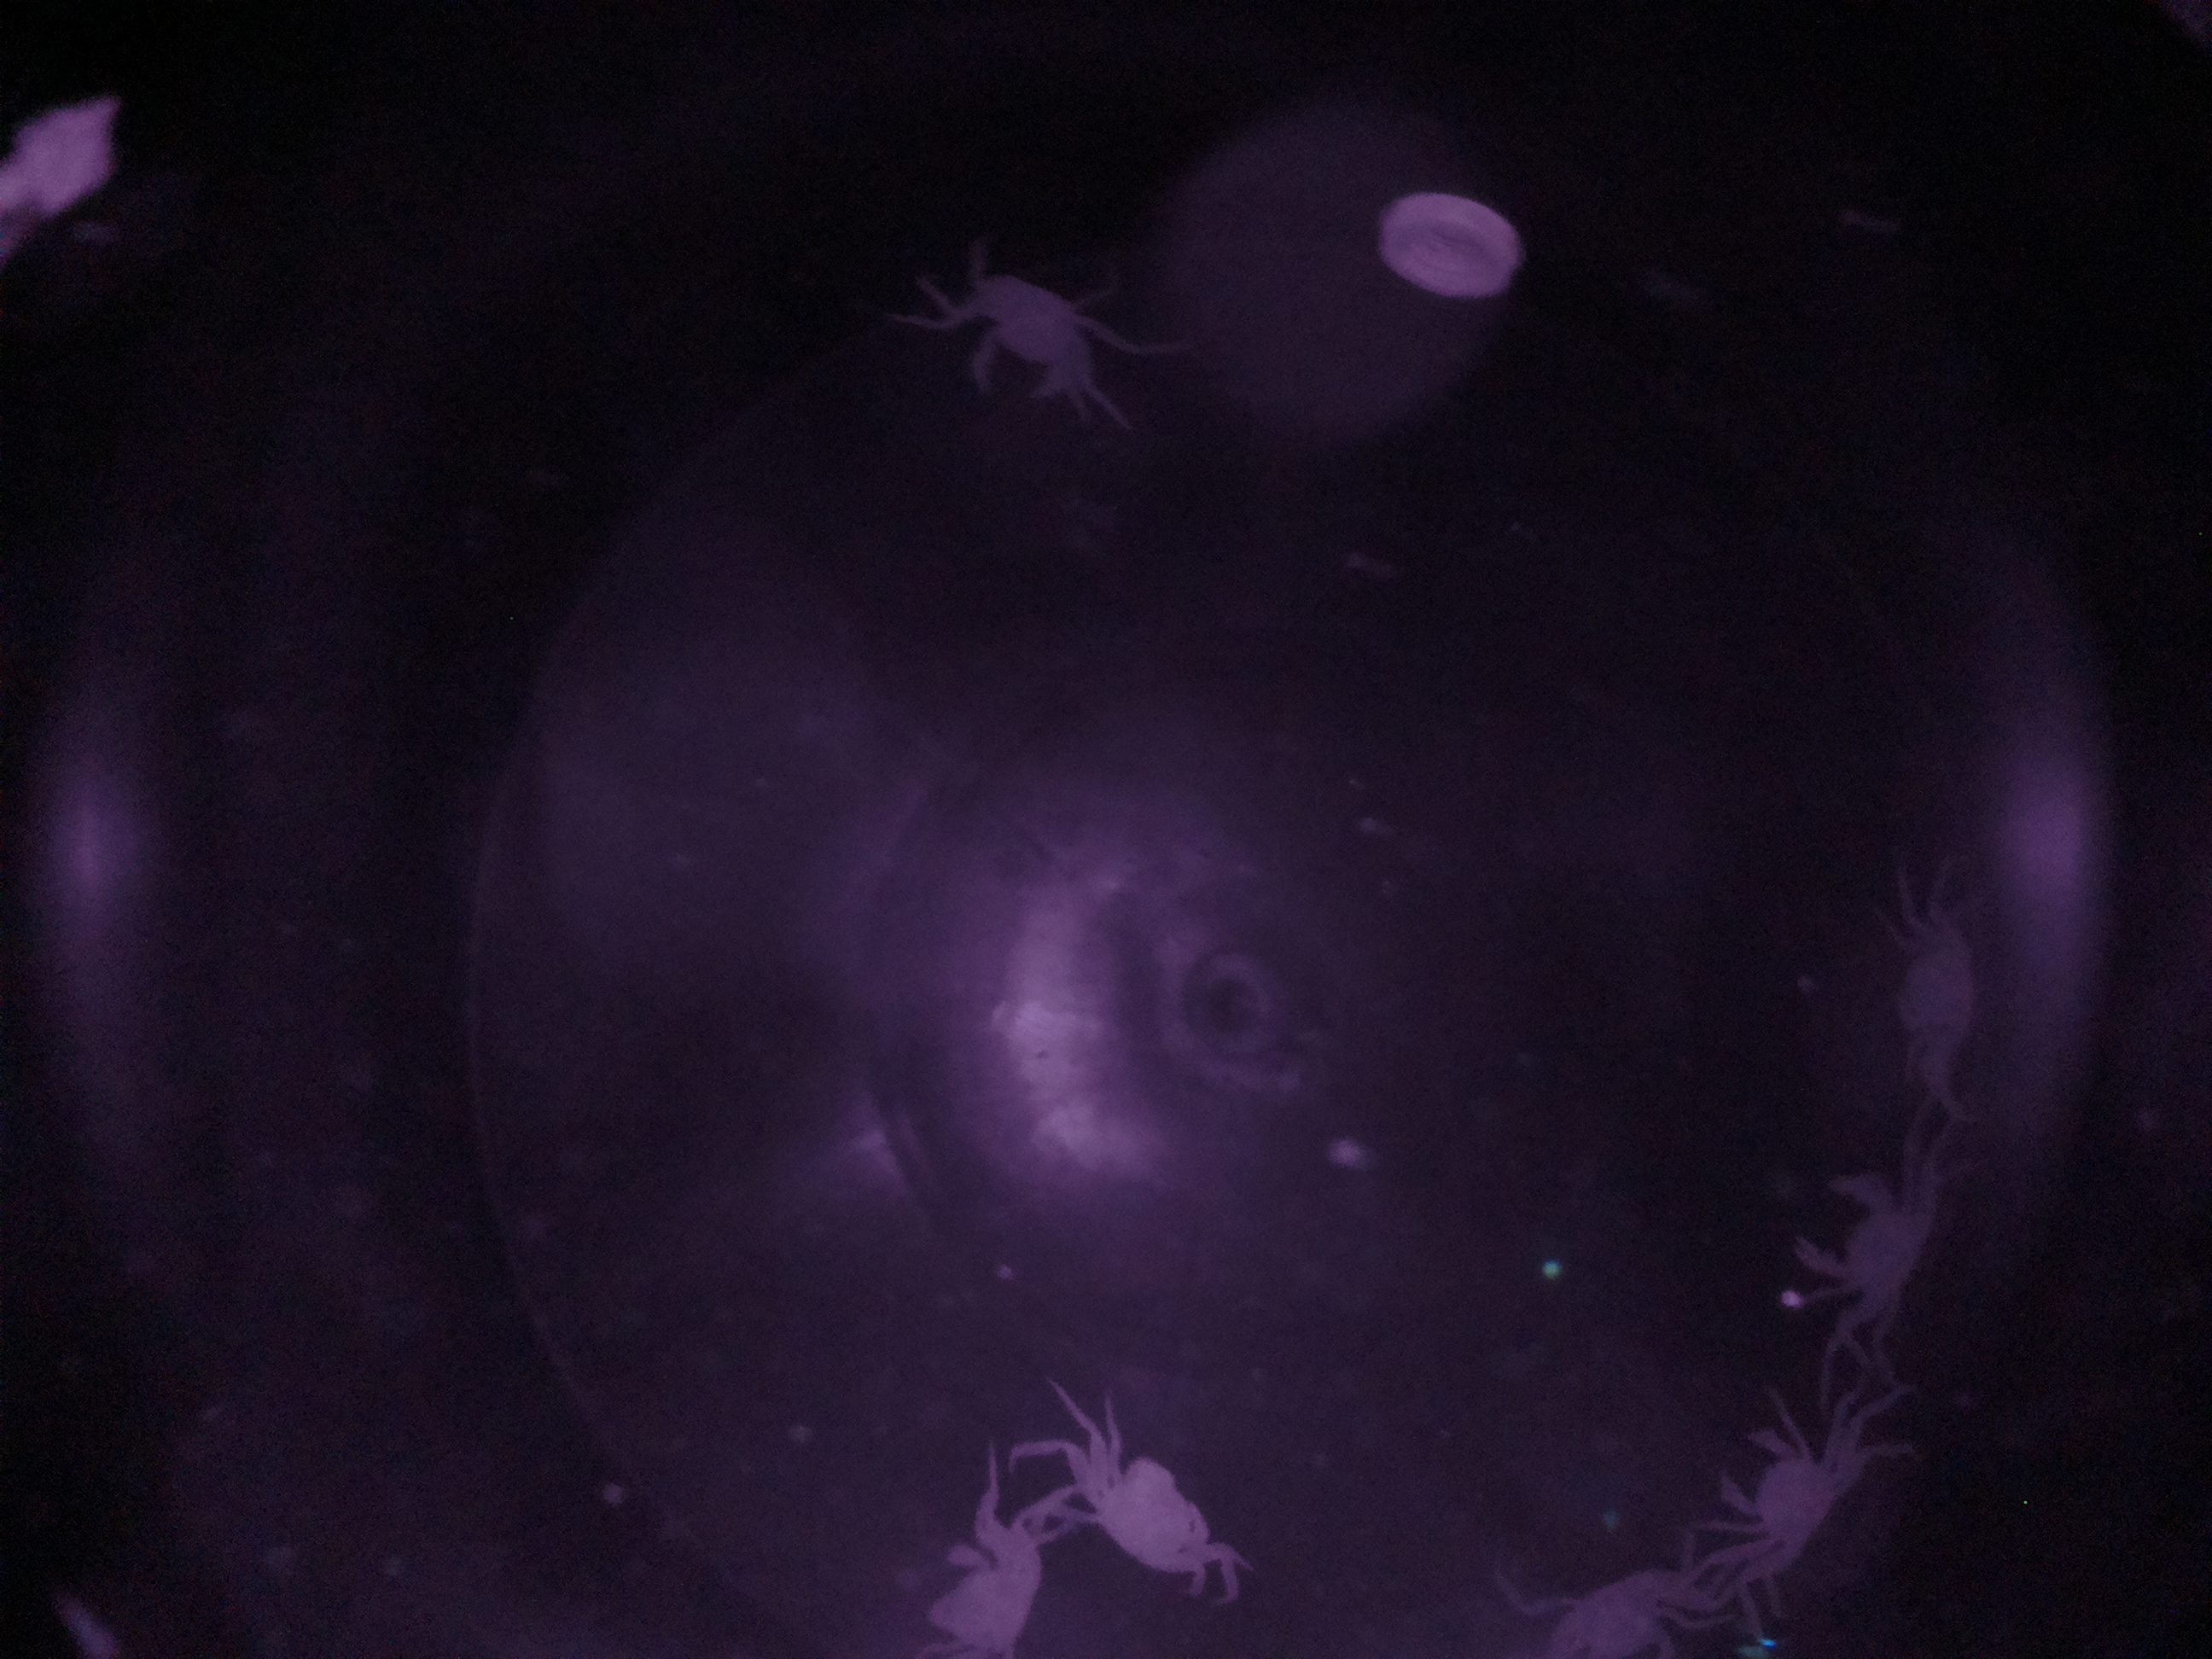Crab: (1771, 1161, 1980, 1338), (928, 253, 1129, 436), (1702, 1403, 1881, 1591), (1083, 1419, 1247, 1608)
